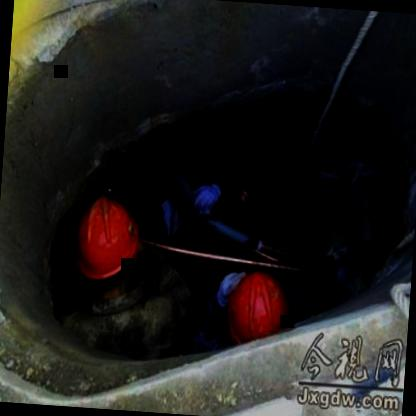helmet: (70, 196, 152, 302), (212, 264, 300, 356)
